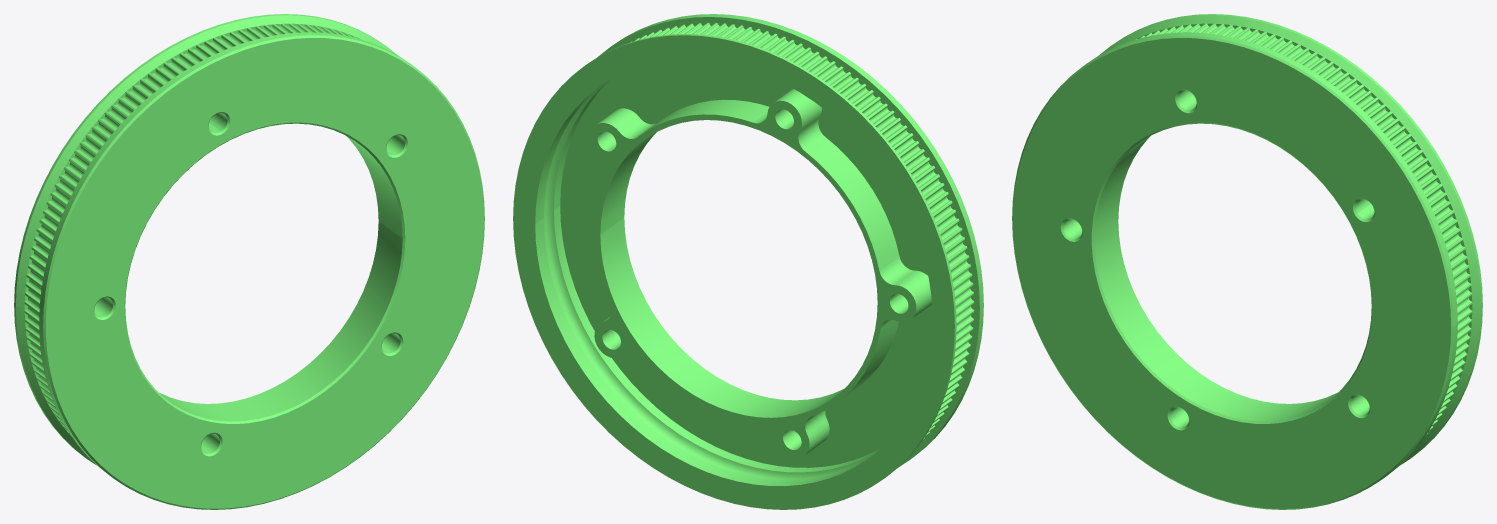
The model's file is circular-mechanism-circular-bearing-block.glb.
The picture shows the model from 3 angles, left to right: view 1: azimuth 30°, elevation 25°; view 2: azimuth 150°, elevation 25°; view 3: azimuth 330°, elevation 25°; orthographic projection.
Visible parts, largest first — view 1: FusionComponent; view 2: FusionComponent; view 3: FusionComponent.
Part boxes in pixels (x1,y1,x2,y2): FusionComponent: (14,14,484,509); FusionComponent: (513,14,983,509); FusionComponent: (1012,14,1482,509).
Size of the model in its own units: 102 by 102 by 12.
